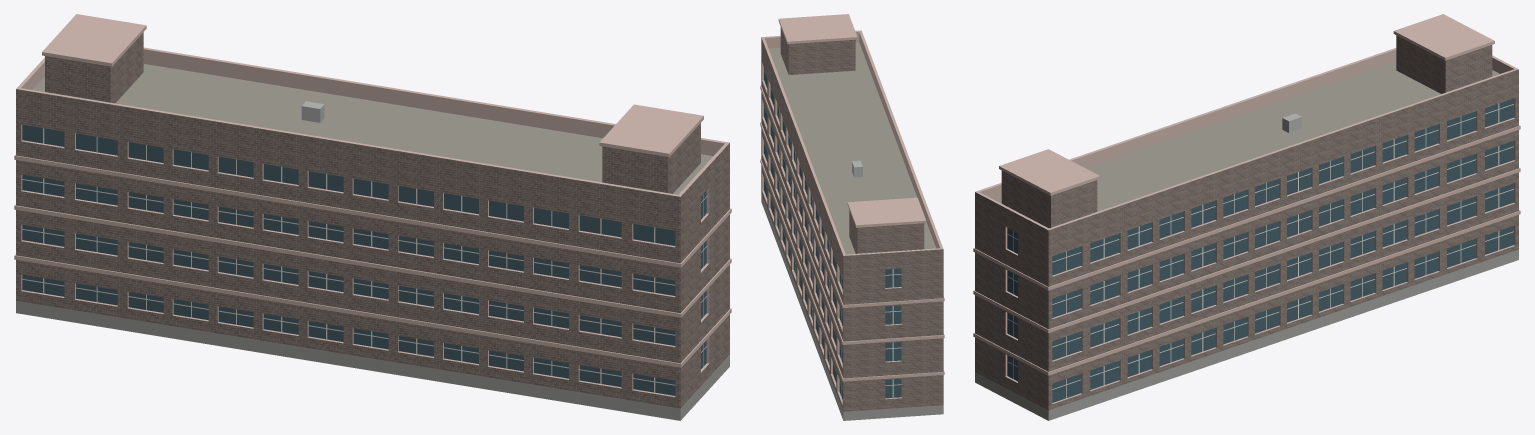
3 views of the same model, side by side, from view 1: azimuth 30°, elevation 25°; view 2: azimuth 150°, elevation 25°; view 3: azimuth 270°, elevation 25° (orthographic). The views are drawn at different scales.
Visible parts, largest first — view 1: wing5__wall-plaster, wing5__brick, wing5__trim-concrete, wing5__glass, wing5__roof, wing5__base-stone, wing5__frame; view 2: wing5__brick, wing5__trim-concrete, wing5__roof, wing5__wall-plaster, wing5__glass, wing5__base-stone, wing5__frame; view 3: wing5__wall-plaster, wing5__brick, wing5__glass, wing5__trim-concrete, wing5__roof, wing5__base-stone, wing5__frame.
Boxes of the visible parts, x1,y1,x2,y2 form: wing5__wall-plaster: [123, 106, 573, 390]; wing5__brick: [16, 32, 729, 408]; wing5__trim-concrete: [14, 14, 731, 396]; wing5__glass: [22, 125, 706, 395]; wing5__roof: [33, 64, 713, 194]; wing5__base-stone: [16, 300, 729, 420]; wing5__frame: [22, 128, 707, 392]; wing5__brick: [761, 27, 943, 411]; wing5__trim-concrete: [760, 14, 944, 404]; wing5__roof: [769, 42, 936, 254]; wing5__wall-plaster: [774, 73, 830, 375]; wing5__glass: [764, 68, 901, 399]; wing5__base-stone: [761, 193, 943, 420]; wing5__frame: [763, 68, 901, 398]; wing5__wall-plaster: [1124, 95, 1443, 384]; wing5__brick: [975, 35, 1518, 410]; wing5__glass: [1007, 98, 1513, 402]; wing5__trim-concrete: [973, 14, 1520, 404]; wing5__roof: [994, 62, 1499, 211]; wing5__base-stone: [975, 249, 1518, 420]; wing5__frame: [1007, 103, 1513, 398].
Bounding box in the file's own units: 36.49 × 18.45 × 42.03.
Materials: 8 (2 with a texture image).
